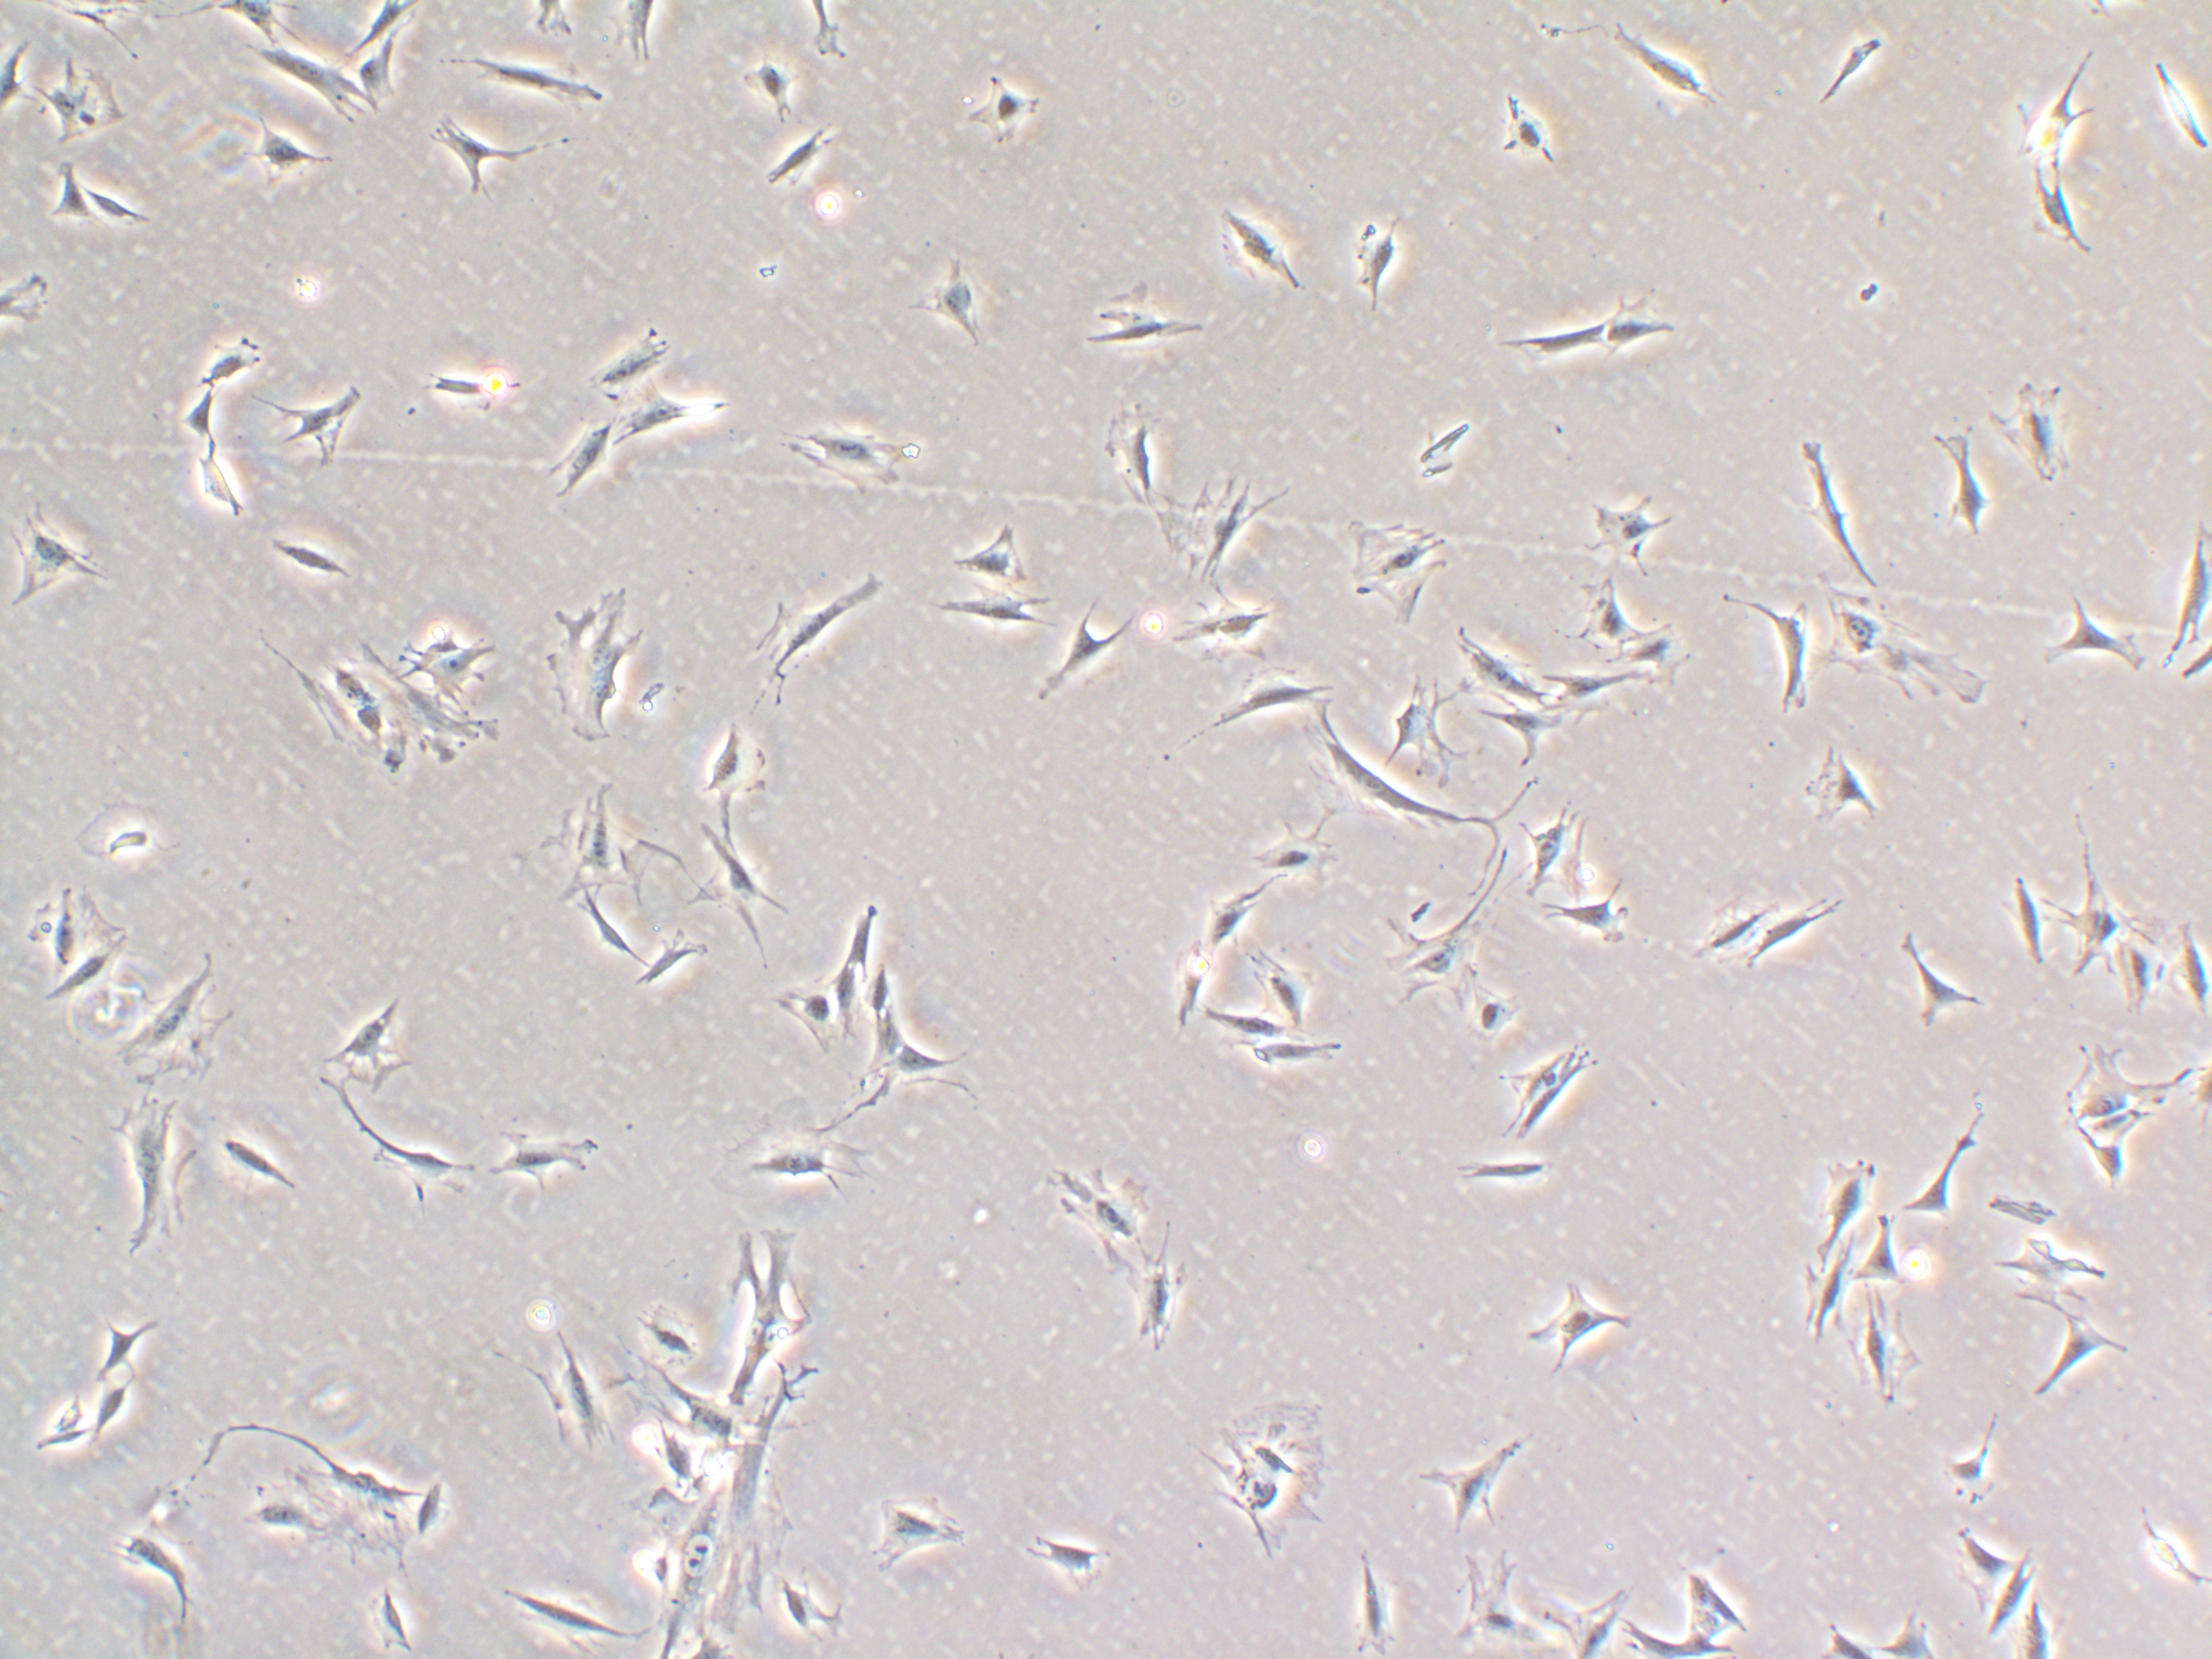spread: (620, 1387, 805, 1659), (1799, 538, 2017, 718), (233, 1420, 434, 1577), (277, 647, 498, 782), (1207, 1384, 1362, 1560), (702, 1096, 897, 1225), (84, 1080, 206, 1270), (519, 775, 679, 913), (531, 591, 650, 763), (1364, 884, 1510, 1011), (1033, 1147, 1169, 1281), (1170, 464, 1305, 598), (94, 964, 246, 1075), (1341, 500, 1456, 634)
